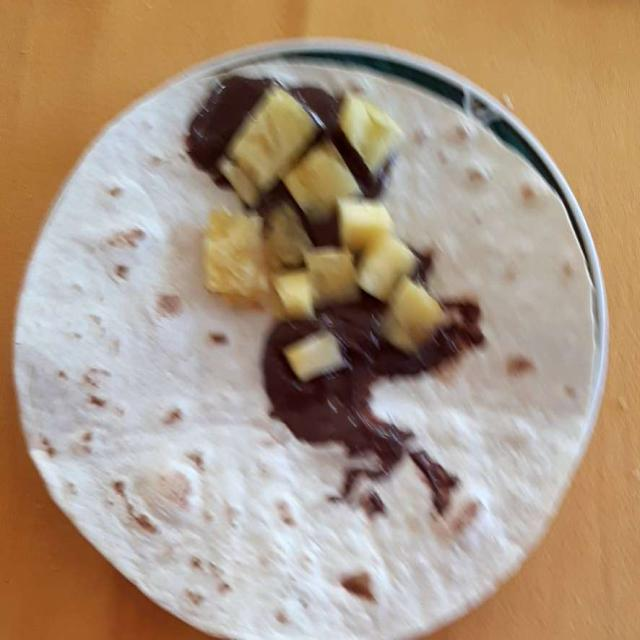fajita-bread-only: (27, 56, 622, 640)
pineapple: (208, 87, 437, 389)
